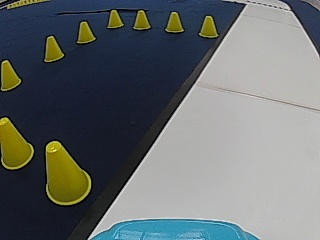cone: (44, 141, 91, 204), (0, 117, 33, 168), (0, 59, 21, 89), (43, 35, 64, 61), (199, 15, 218, 38), (76, 21, 95, 44), (165, 11, 183, 33), (133, 10, 150, 30), (106, 9, 123, 29)
